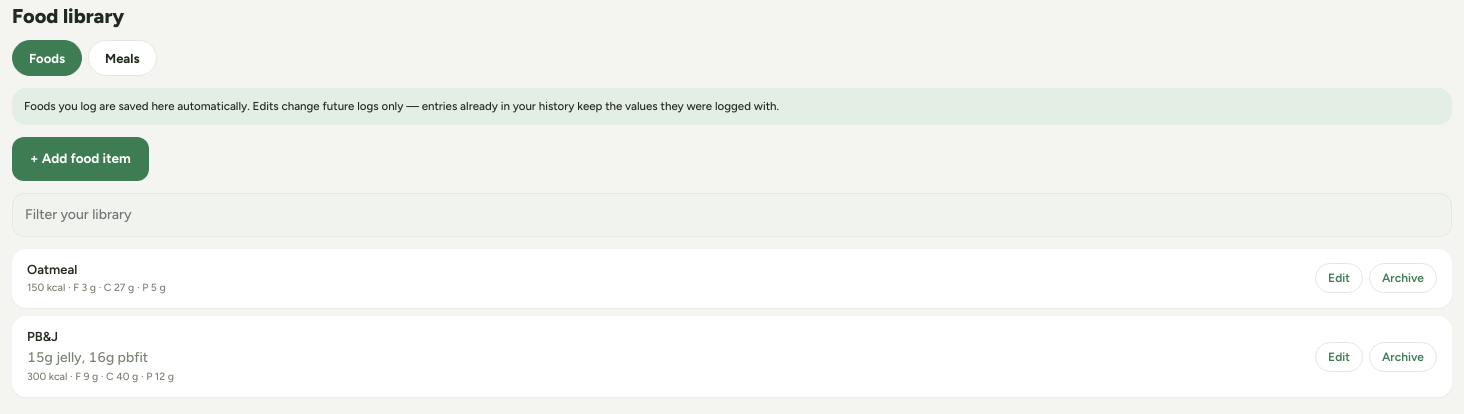
FoodsScreen new meal button placement › hides "+ New meal" on the Foods tab and shows it on the Meals tab
The image size is (1464, 414).
Expected: the button "+ Add food item" is shown, [12,137,149,181]
Expected: the text "+ New meal" is not shown
Click the tab "Meals".
click(122, 58)  # box [88,40,156,76]
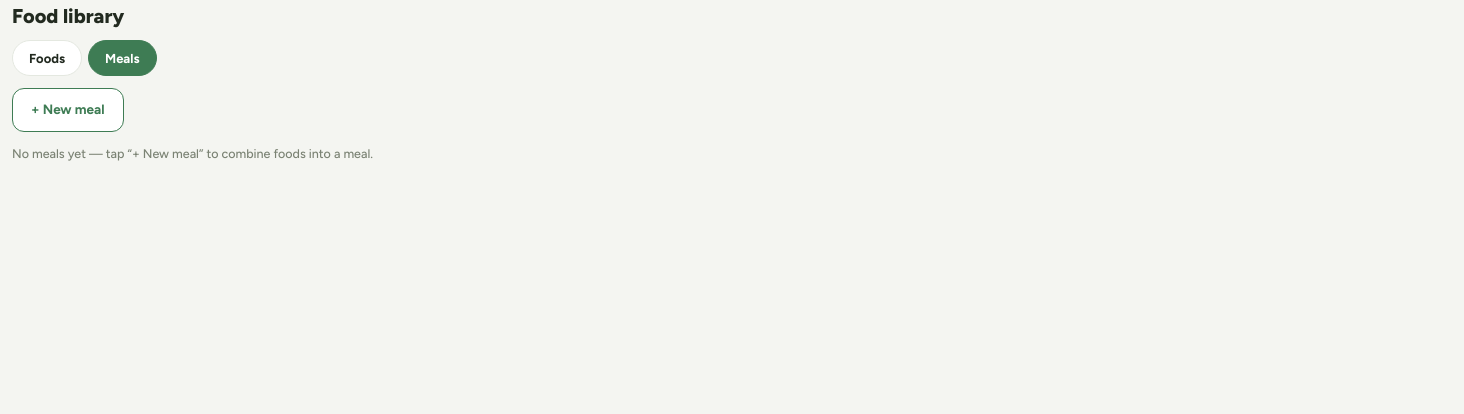
Result: the button "+ New meal" is shown at [12,88,124,132]
